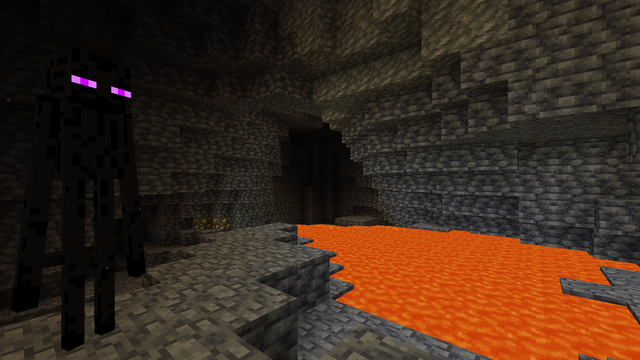endermens: (44, 31, 133, 358)
